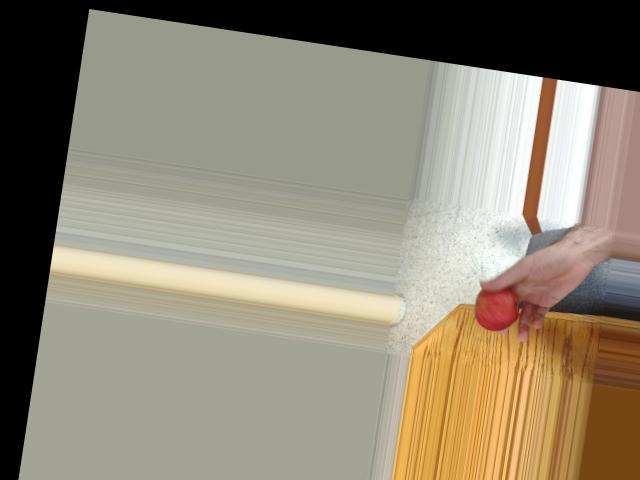apple: (470, 277, 530, 336)
